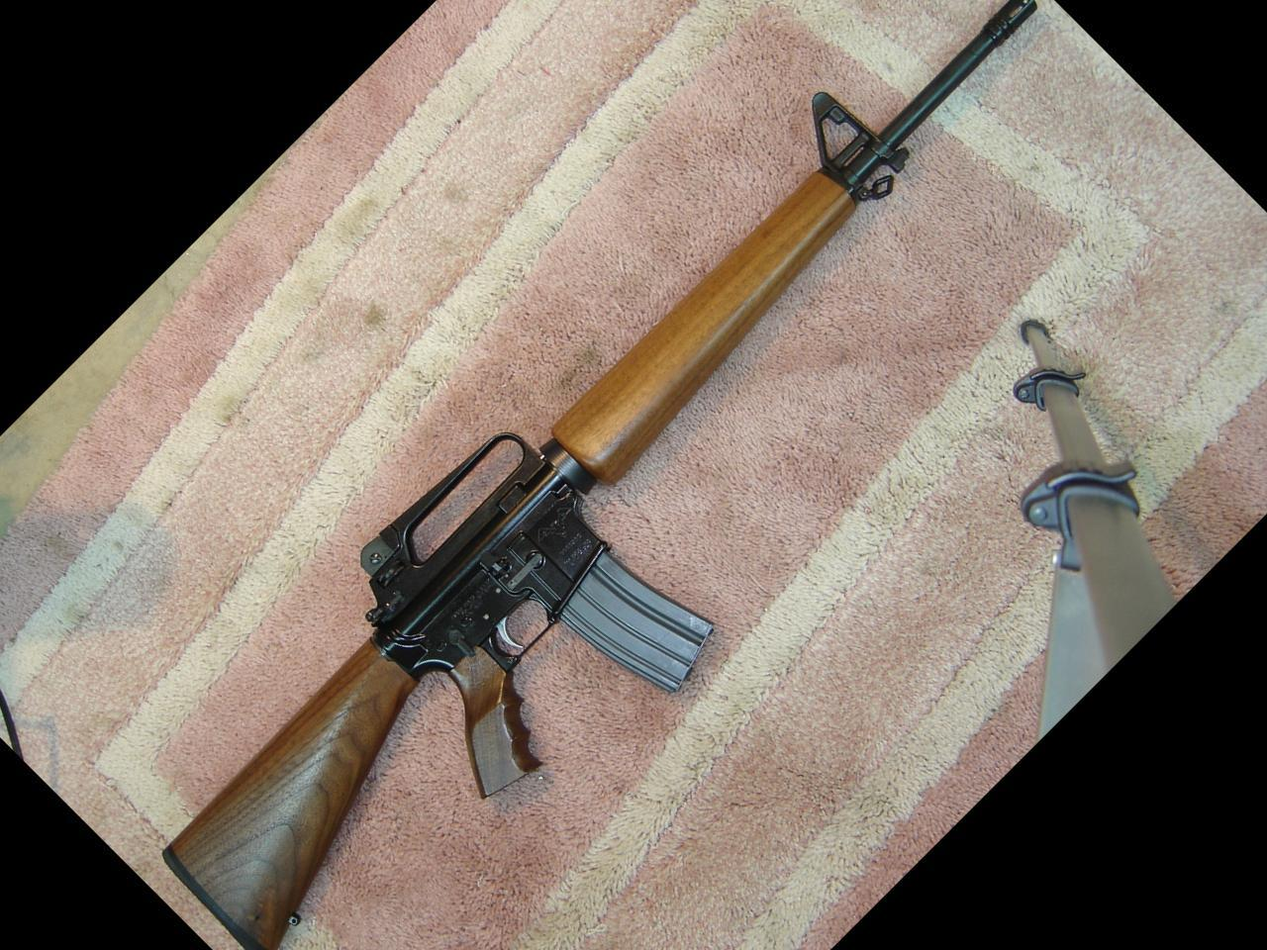larga: (163, 2, 1038, 950)
